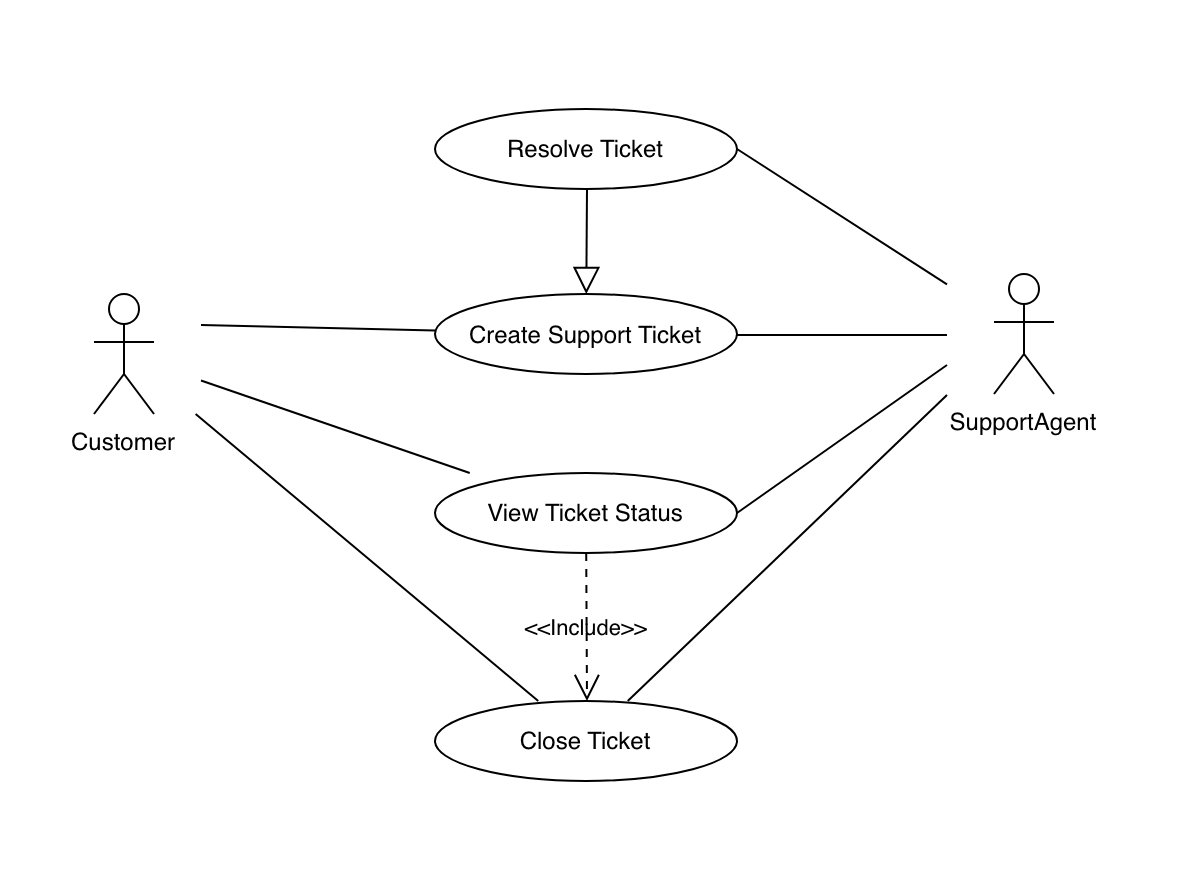actor: (987, 271, 1065, 401), (88, 290, 160, 419)
association: (196, 412, 540, 703), (630, 395, 952, 700), (738, 363, 948, 515), (739, 146, 952, 291), (200, 376, 475, 477), (197, 309, 430, 345), (571, 555, 605, 699), (740, 325, 954, 344), (573, 189, 602, 297)
text: (462, 317, 706, 349), (482, 496, 695, 531), (493, 132, 675, 167), (946, 407, 1104, 441), (511, 724, 657, 760), (519, 609, 652, 641), (63, 425, 177, 460)
use_case: (432, 697, 739, 785), (432, 290, 738, 378), (432, 106, 741, 193), (432, 470, 741, 556)
